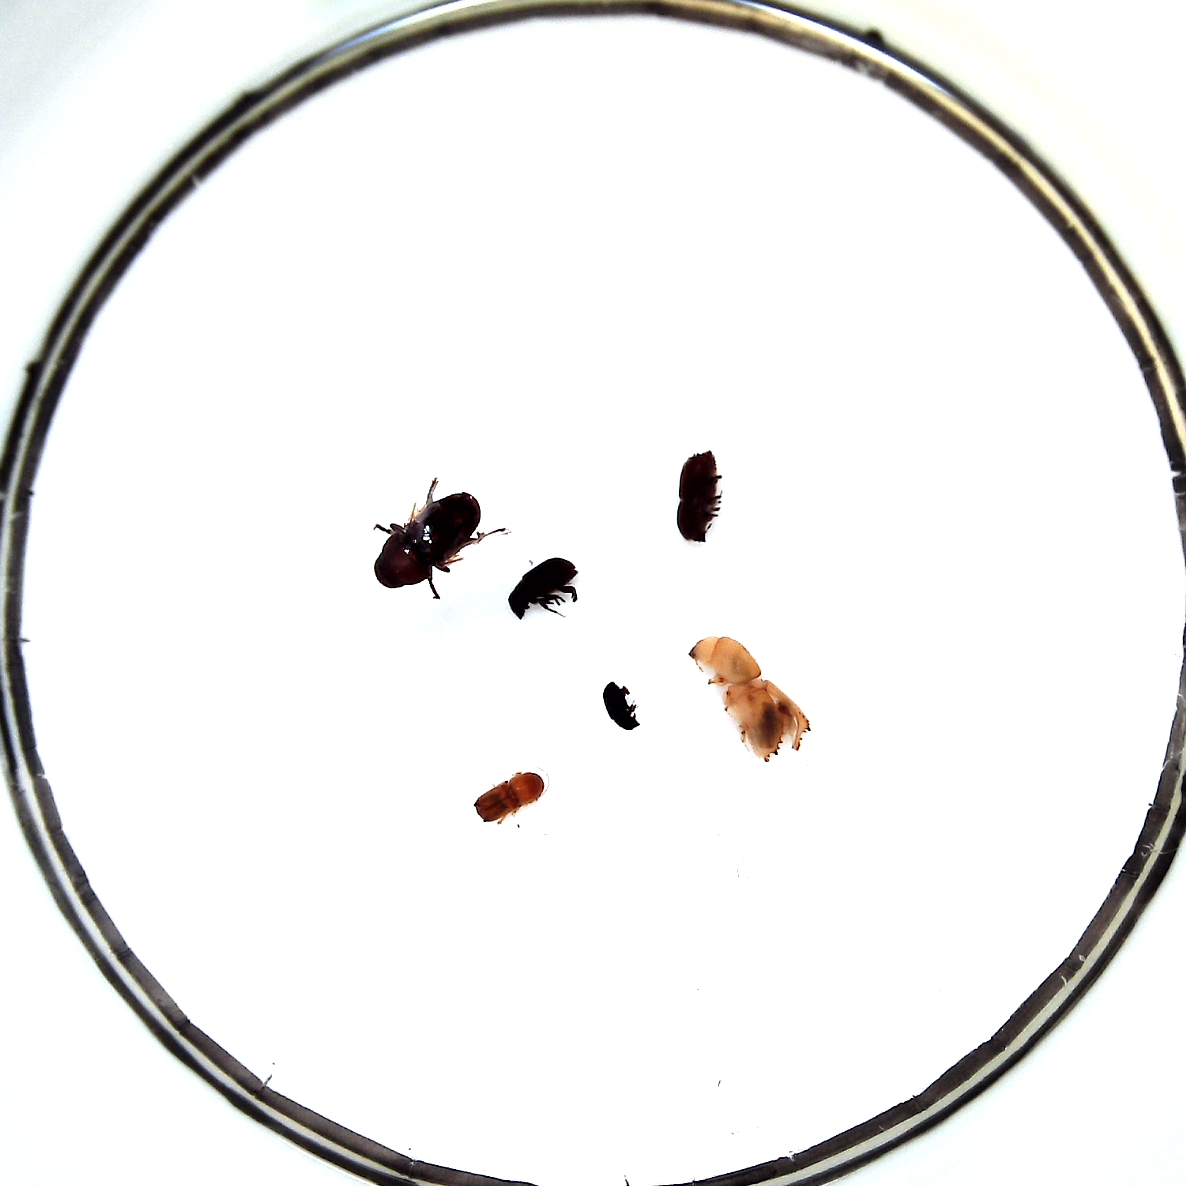Boerner: (689, 636, 812, 764)
Leconte: (373, 492, 482, 586)
acuminatus: (603, 681, 639, 730)
armandi: (507, 558, 579, 620)
linnaeus: (676, 449, 718, 542), (474, 770, 544, 825)
